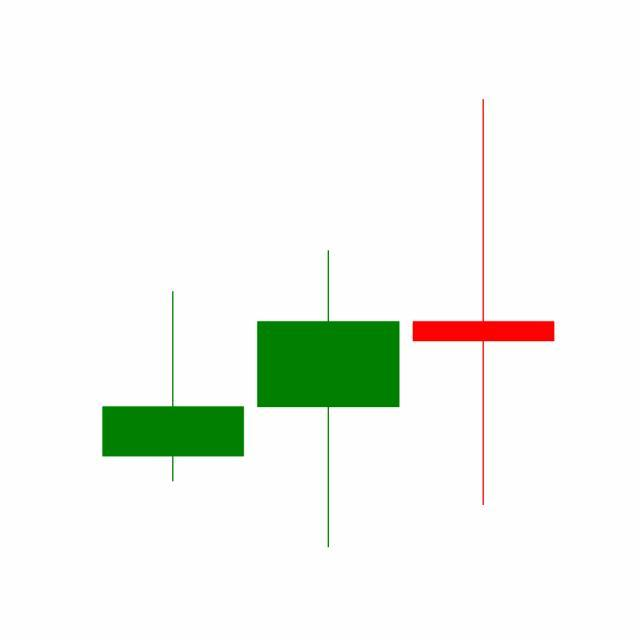Spinning Top: (406, 96, 562, 510)
